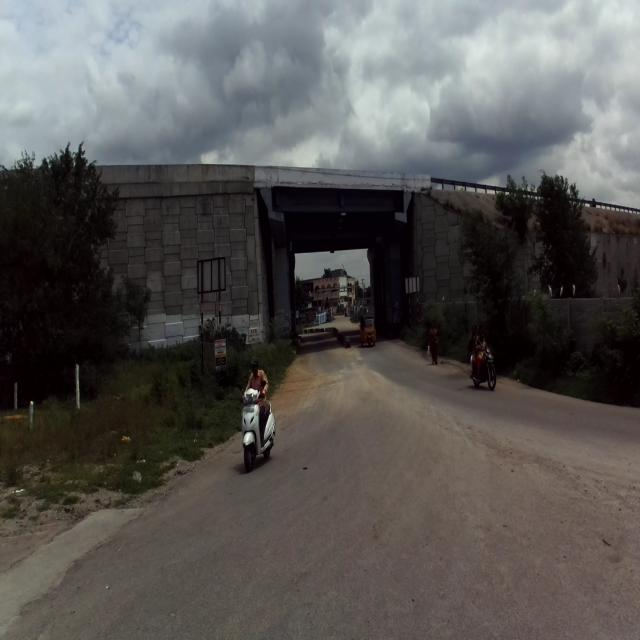autorickshaw: (359, 313, 376, 347)
motorcycle_Hero: (469, 343, 497, 389)
scooter: (238, 378, 276, 472)
